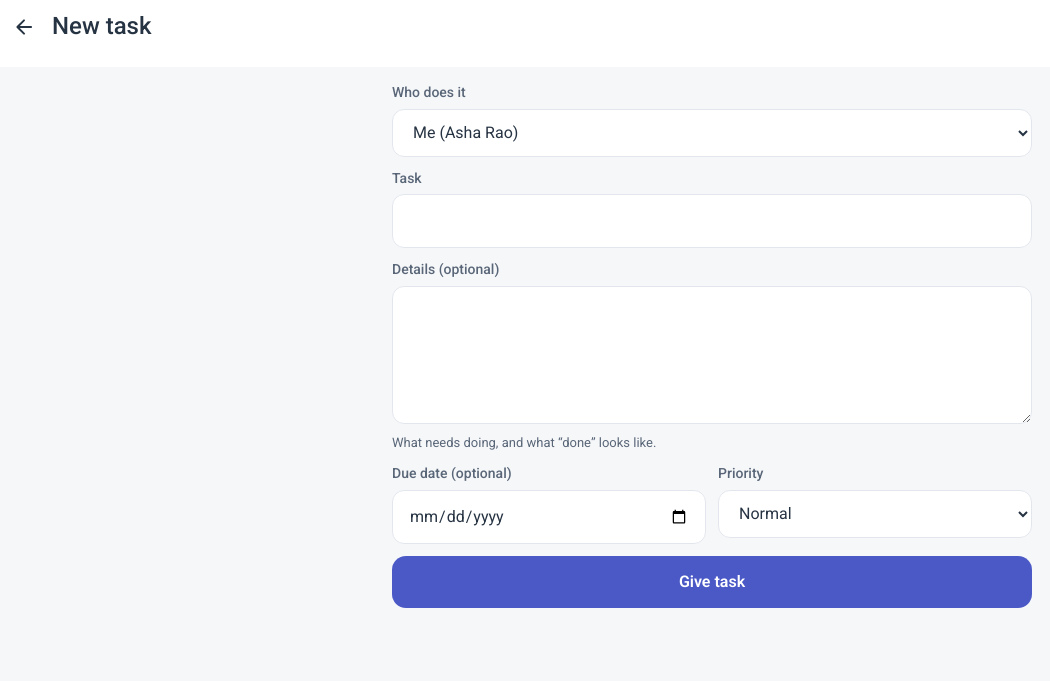
Test: New task › shows a refusal from the server
Type "My to-do" into the field labelled "Task" at (712, 221), box [393,195,1031,247]
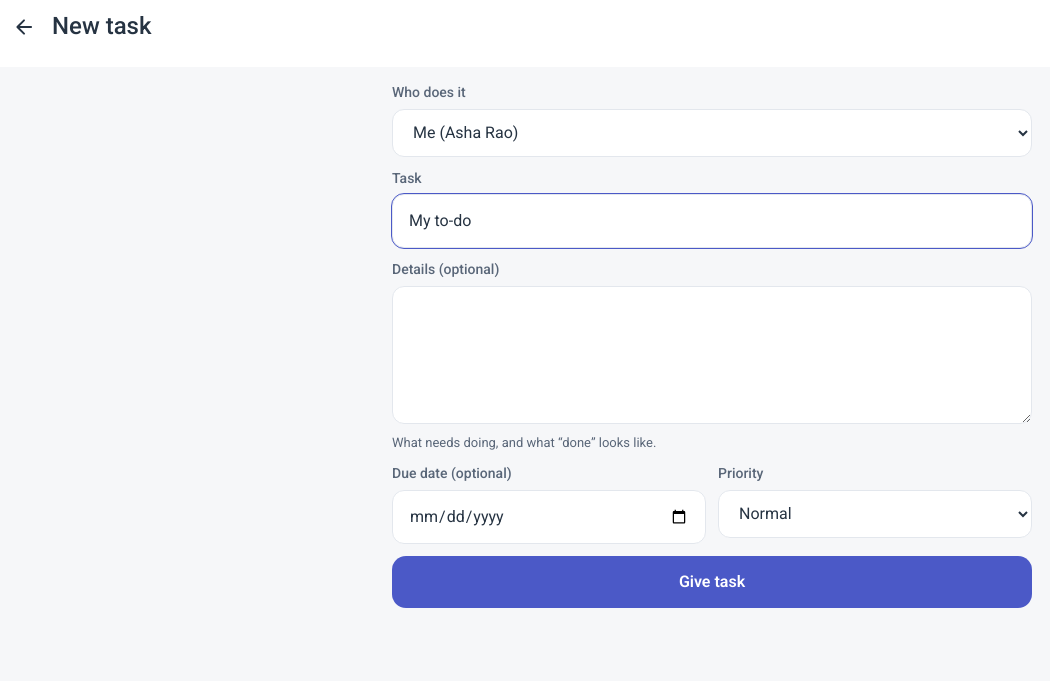
Click the button "Give task" at (712, 582), box [392,556,1032,608]
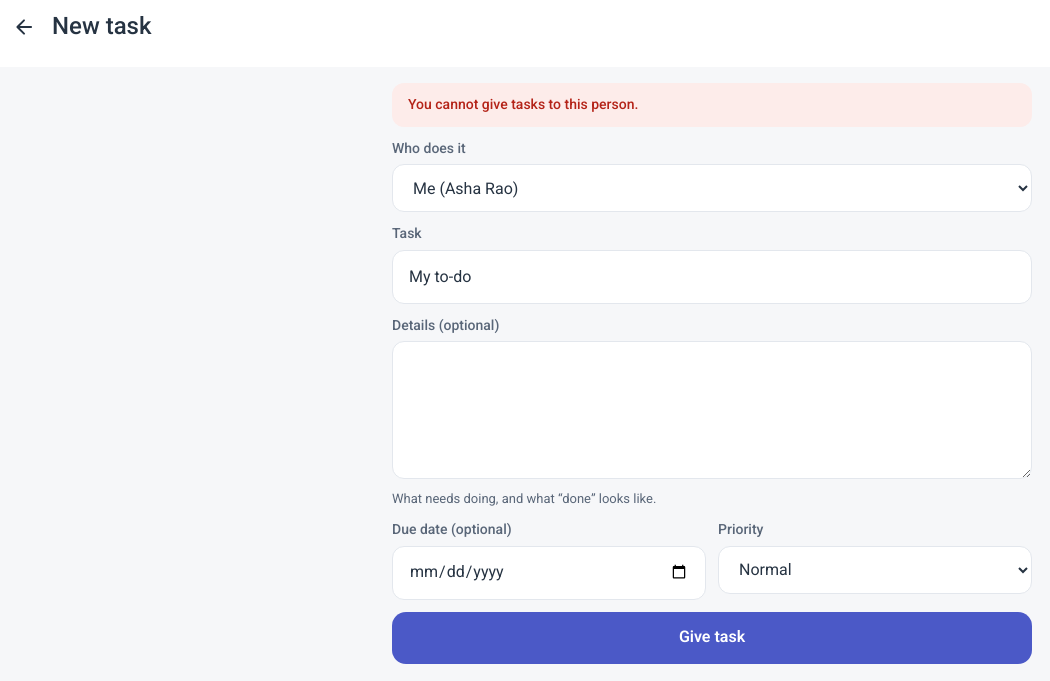
Now the text "You cannot give tasks to this person." is shown, box [392,83,1032,127]
